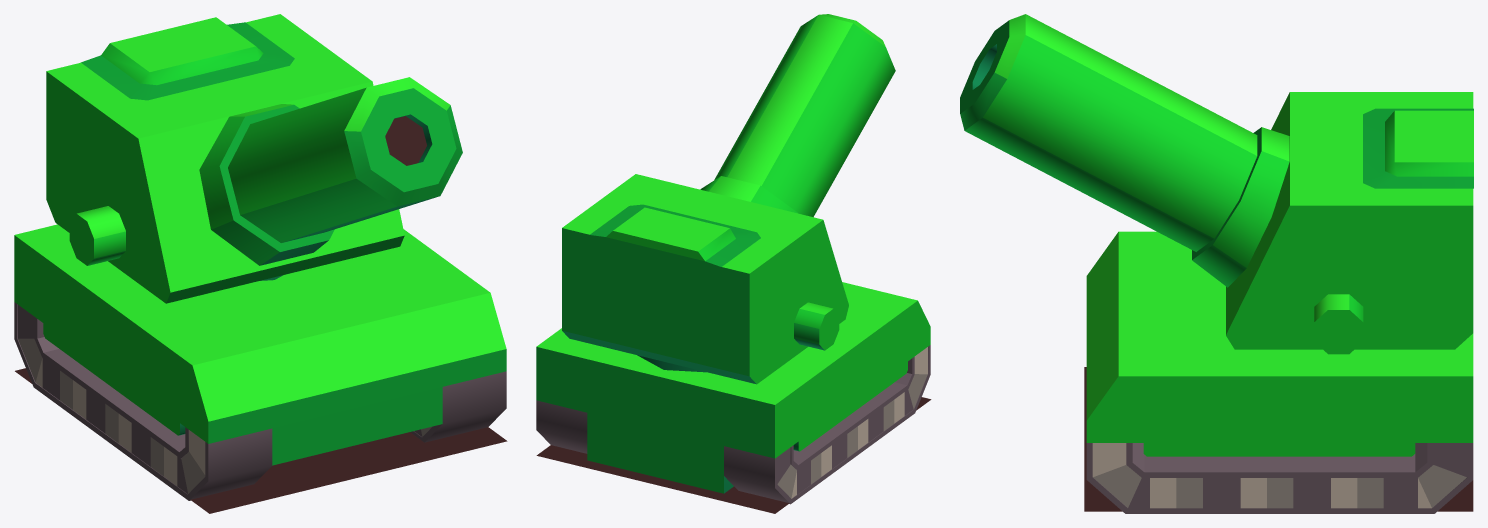
The model's file is ArtillertyMesh.GreenEarth.glb.
3 views of the same model, side by side, from view 1: azimuth 30°, elevation 25°; view 2: azimuth 150°, elevation 25°; view 3: azimuth 270°, elevation 25° (orthographic). The views are drawn at different scales.
Visible parts, largest first — view 1: ArtillertyMesh.GreenEarth; view 2: ArtillertyMesh.GreenEarth; view 3: ArtillertyMesh.GreenEarth.
Boxes of the visible parts, x1=… form: ArtillertyMesh.GreenEarth: x1=14, y1=14, x2=507, y2=513; ArtillertyMesh.GreenEarth: x1=536, y1=14, x2=931, y2=513; ArtillertyMesh.GreenEarth: x1=960, y1=14, x2=1473, y2=513.
Size of the model in its own units: 1.4 by 1.88 by 2.1.
Materials: 1 (1 with a texture image).
